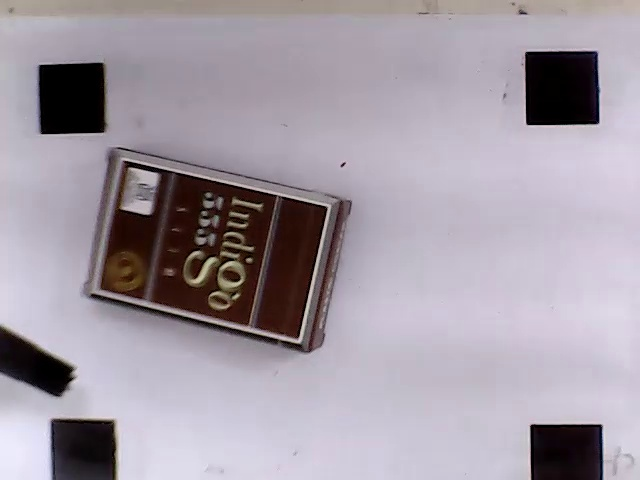BEX: (96, 159, 329, 343)
